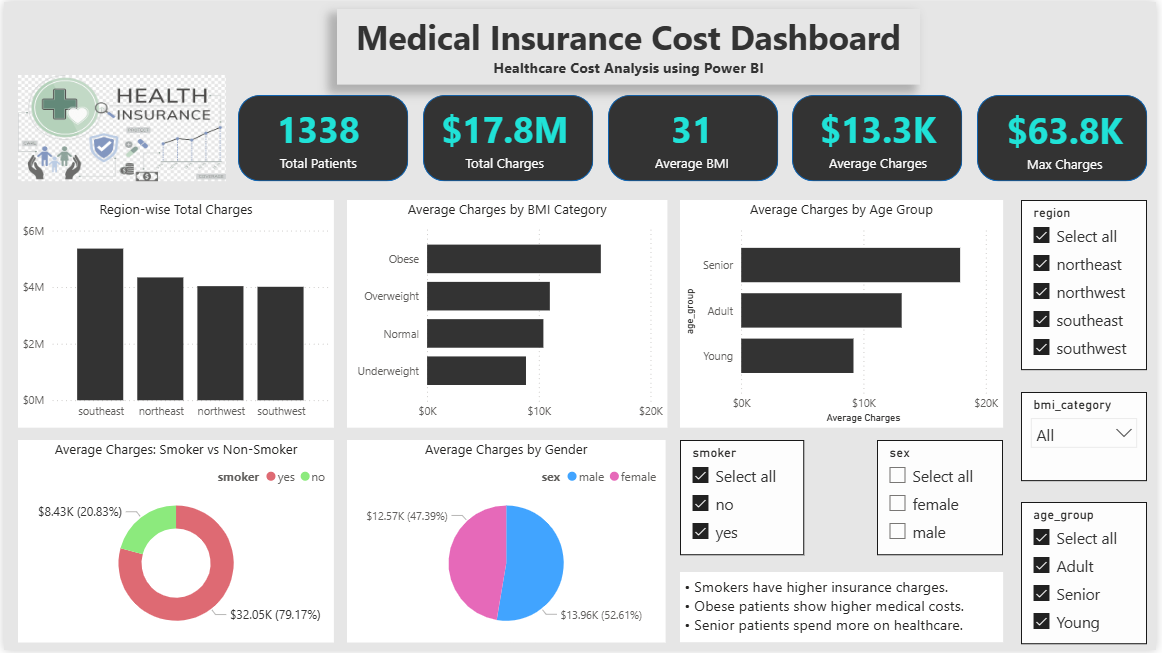

Layout of this report page (visuals, bound fields, positions):
{"tool":"powerbi","page":{"name":"Page 1","canvas":[1280,720],"ordinal":0},"visuals":[{"type":"image","box":[15,81.2,231.2,117.5],"z":0},{"type":"card","fields":{"Values":["Measure Table.Total Patients"]},"box":[266.6,102.5,165,96.4],"z":0,"group":"g3"},{"type":"shape","box":[260,104.1,189.4,95.9],"z":1000,"group":"g1"},{"type":"card","fields":{"Values":["Measure Table.Max Charges"]},"box":[1095.5,104.1,166.1,95.9],"z":1000,"group":"g3"},{"type":"columnChart","title":"Region-wise Total Charges","fields":{"Category":["Medical Cost Personal Datasets CSV.region"],"Y":["Measure Table.Total Charges"]},"box":[15,220,351.2,252.5],"z":1000},{"type":"card","fields":{"Values":["Measure Table.Average Charges"]},"box":[888.8,102.6,164.6,97.5],"z":2000,"group":"g3"},{"type":"donutChart","title":"Average Charges: Smoker vs Non-Smoker","fields":{"Category":["Medical Cost Personal Datasets CSV.smoker"],"Y":["Measure Table.Average Charges"]},"box":[15,486.2,351.2,225],"z":2000},{"type":"card","fields":{"Values":["Measure Table.Average BMI"]},"box":[682,102.7,164.6,95.9],"z":3000,"group":"g3"},{"type":"shape","box":[1081.2,104.1,189.4,95.9],"z":3000,"group":"g1"},{"type":"clusteredBarChart","title":"Average Charges by BMI Category","fields":{"Category":["Medical Cost Personal Datasets CSV.bmi_category"],"Y":["Measure Table.Average Charges"]},"box":[381.2,220,356.2,252.5],"z":3000},{"type":"card","fields":{"Values":["Measure Table.Total Charges"]},"box":[473.8,102.9,166.1,95.9],"z":4000,"group":"g3"},{"type":"shape","box":[875.9,104.1,189.4,95.9],"z":4000,"group":"g1"},{"type":"barChart","title":"Average Charges by Age Group","fields":{"Category":["Medical Cost Personal Datasets CSV.age_group"],"Y":["Measure Table.Average Charges"]},"box":[751.2,220,358.8,252.5],"z":4000},{"type":"group","id":"g1","title":"Group 1","box":[260,104.1,1010,96.1],"z":5000,"group":"g2"},{"type":"shape","box":[670.6,104.1,189.4,95.9],"z":5000,"group":"g1"},{"type":"pieChart","title":"Average Charges by Gender","fields":{"Category":["Medical Cost Personal Datasets CSV.sex"],"Y":["Measure Table.Average Charges"]},"box":[381.2,486.2,353.8,225],"z":5000},{"type":"group","id":"g2","title":"Group 3","box":[260,102.5,1010,97.5],"z":6000},{"type":"group","id":"g3","title":"Group 2","box":[266.6,102.5,994.9,97.5],"z":6000,"group":"g2"},{"type":"shape","box":[465.3,104.1,189.4,95.9],"z":6000,"group":"g1"},{"type":"textbox","box":[370,7.8,647.8,84.4],"z":7000},{"type":"slicer","fields":{"Values":["Medical Cost Personal Datasets CSV.region"]},"box":[1130,220,140,188.8],"z":8000},{"type":"textbox","box":[751.2,633.8,358.8,77.5],"z":9000},{"type":"slicer","fields":{"Values":["Medical Cost Personal Datasets CSV.sex"]},"box":[970,486.2,140,127.5],"z":10000},{"type":"slicer","fields":{"Values":["Medical Cost Personal Datasets CSV.smoker"]},"box":[751.2,486.2,137.5,127.5],"z":11000},{"type":"slicer","fields":{"Values":["Medical Cost Personal Datasets CSV.bmi_category"]},"box":[1130,433.8,140,98.8],"z":12000},{"type":"slicer","fields":{"Values":["Medical Cost Personal Datasets CSV.age_group"]},"box":[1130,555,140,157.5],"z":13000}]}

Visuals, with their boxes in screenshot pixels (x1, y1, x2, y2), scaled from the page's 1280x720 canvas onto the 1162x653 screenshot:
image: (left=14, top=74, right=224, bottom=180)
card - Measure Table.Total Patients: (left=242, top=93, right=392, bottom=180)
shape: (left=236, top=94, right=408, bottom=181)
card - Measure Table.Max Charges: (left=995, top=94, right=1145, bottom=181)
"Region-wise Total Charges" columnChart: (left=14, top=200, right=332, bottom=429)
card - Measure Table.Average Charges: (left=807, top=93, right=956, bottom=181)
"Average Charges: Smoker vs Non-Smoker" donutChart: (left=14, top=441, right=332, bottom=645)
card - Measure Table.Average BMI: (left=619, top=93, right=769, bottom=180)
shape: (left=982, top=94, right=1153, bottom=181)
"Average Charges by BMI Category" clusteredBarChart: (left=346, top=200, right=669, bottom=429)
card - Measure Table.Total Charges: (left=430, top=93, right=581, bottom=180)
shape: (left=795, top=94, right=967, bottom=181)
"Average Charges by Age Group" barChart: (left=682, top=200, right=1008, bottom=429)
"Group 1" group: (left=236, top=94, right=1153, bottom=182)
shape: (left=609, top=94, right=781, bottom=181)
"Average Charges by Gender" pieChart: (left=346, top=441, right=667, bottom=645)
"Group 3" group: (left=236, top=93, right=1153, bottom=181)
"Group 2" group: (left=242, top=93, right=1145, bottom=181)
shape: (left=422, top=94, right=594, bottom=181)
textbox: (left=336, top=7, right=924, bottom=84)
slicer - Medical Cost Personal Datasets CSV.region: (left=1026, top=200, right=1153, bottom=371)
textbox: (left=682, top=575, right=1008, bottom=645)
slicer - Medical Cost Personal Datasets CSV.sex: (left=881, top=441, right=1008, bottom=557)
slicer - Medical Cost Personal Datasets CSV.smoker: (left=682, top=441, right=807, bottom=557)
slicer - Medical Cost Personal Datasets CSV.bmi_category: (left=1026, top=393, right=1153, bottom=483)
slicer - Medical Cost Personal Datasets CSV.age_group: (left=1026, top=503, right=1153, bottom=646)
